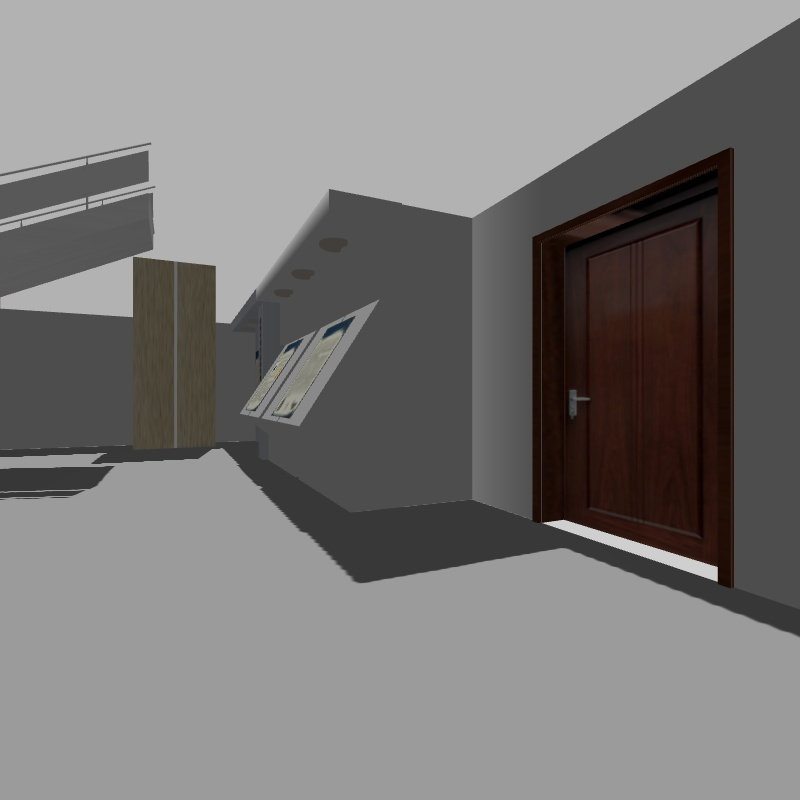handle: (556, 385, 594, 423)
